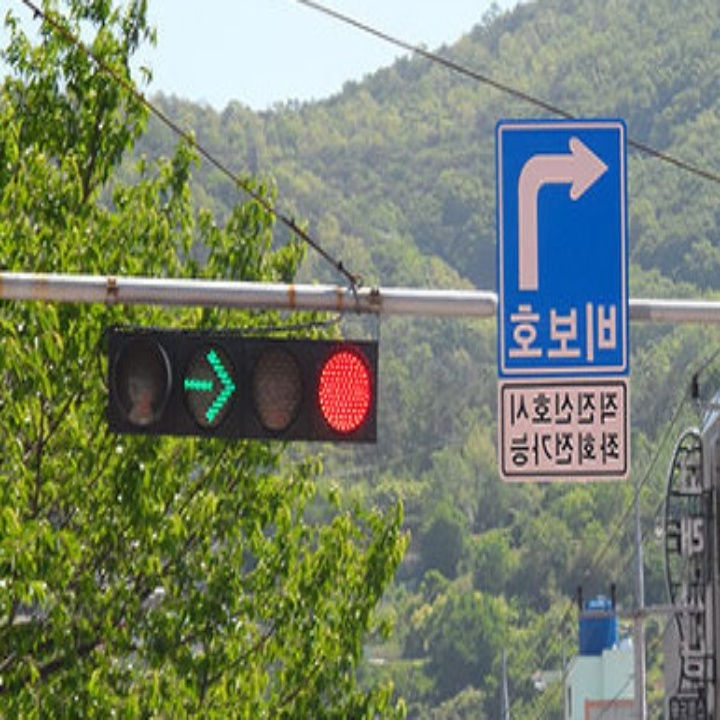right: (513, 129, 609, 298)
